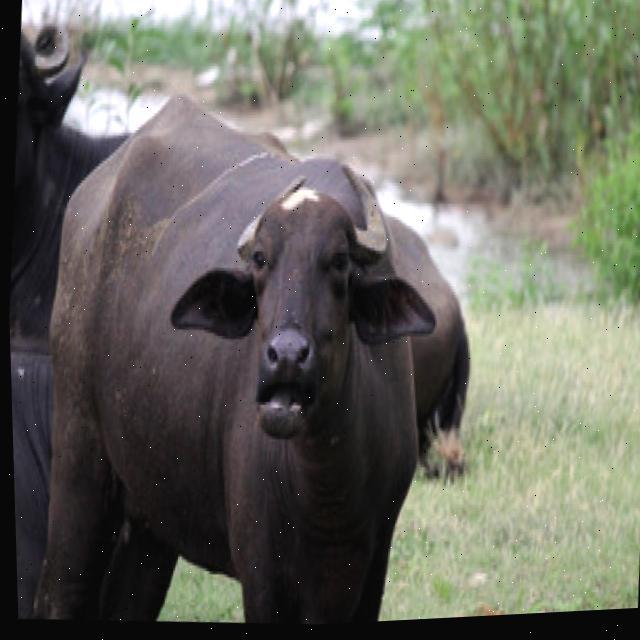Buffalo: (17, 75, 447, 639)
